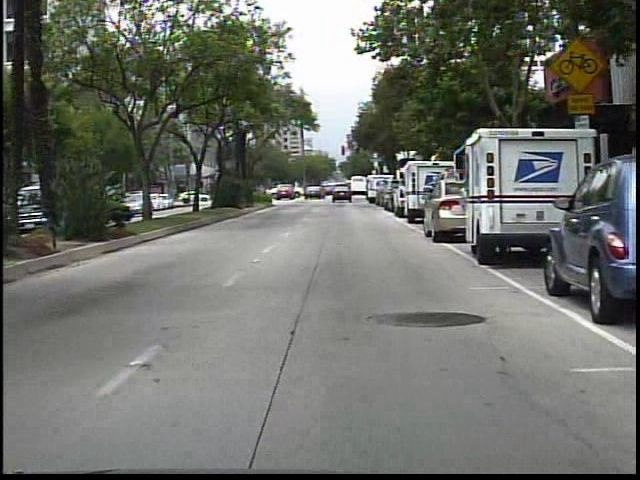person: (341, 183, 354, 203)
